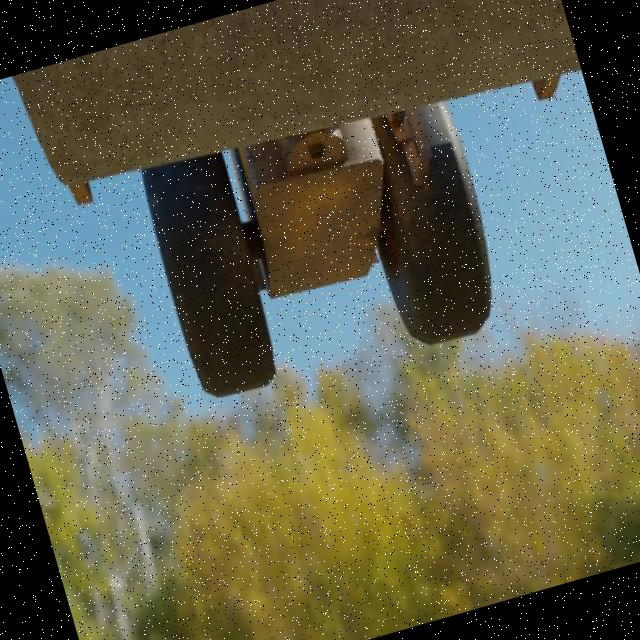Roller: (1, 0, 640, 441)
